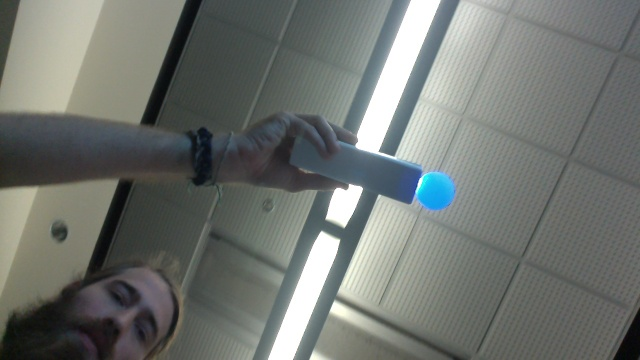wand: (416, 171, 456, 210)
